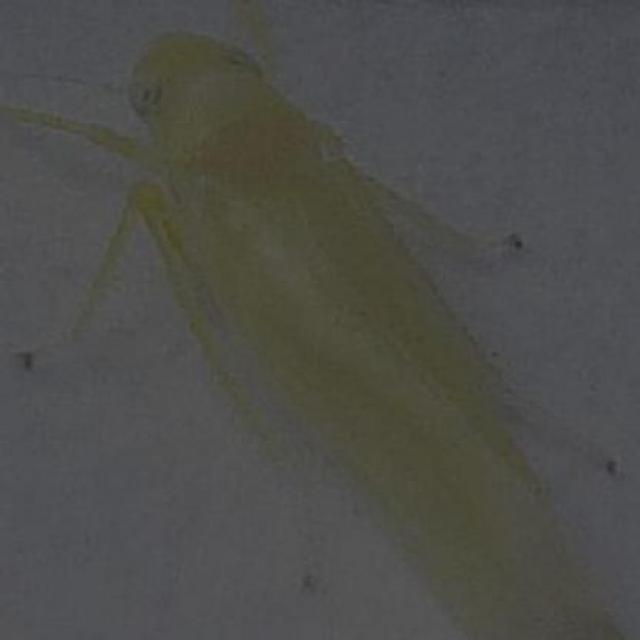green-leafhopper: (127, 14, 596, 640)
